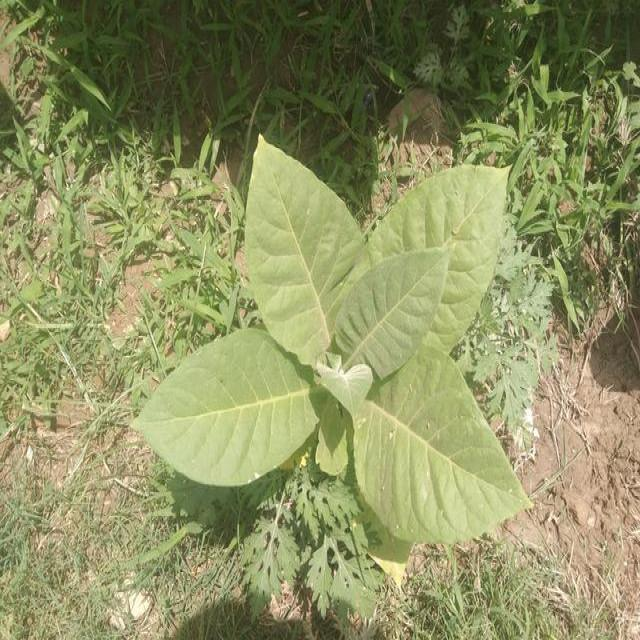crop: (164, 136, 534, 555)
